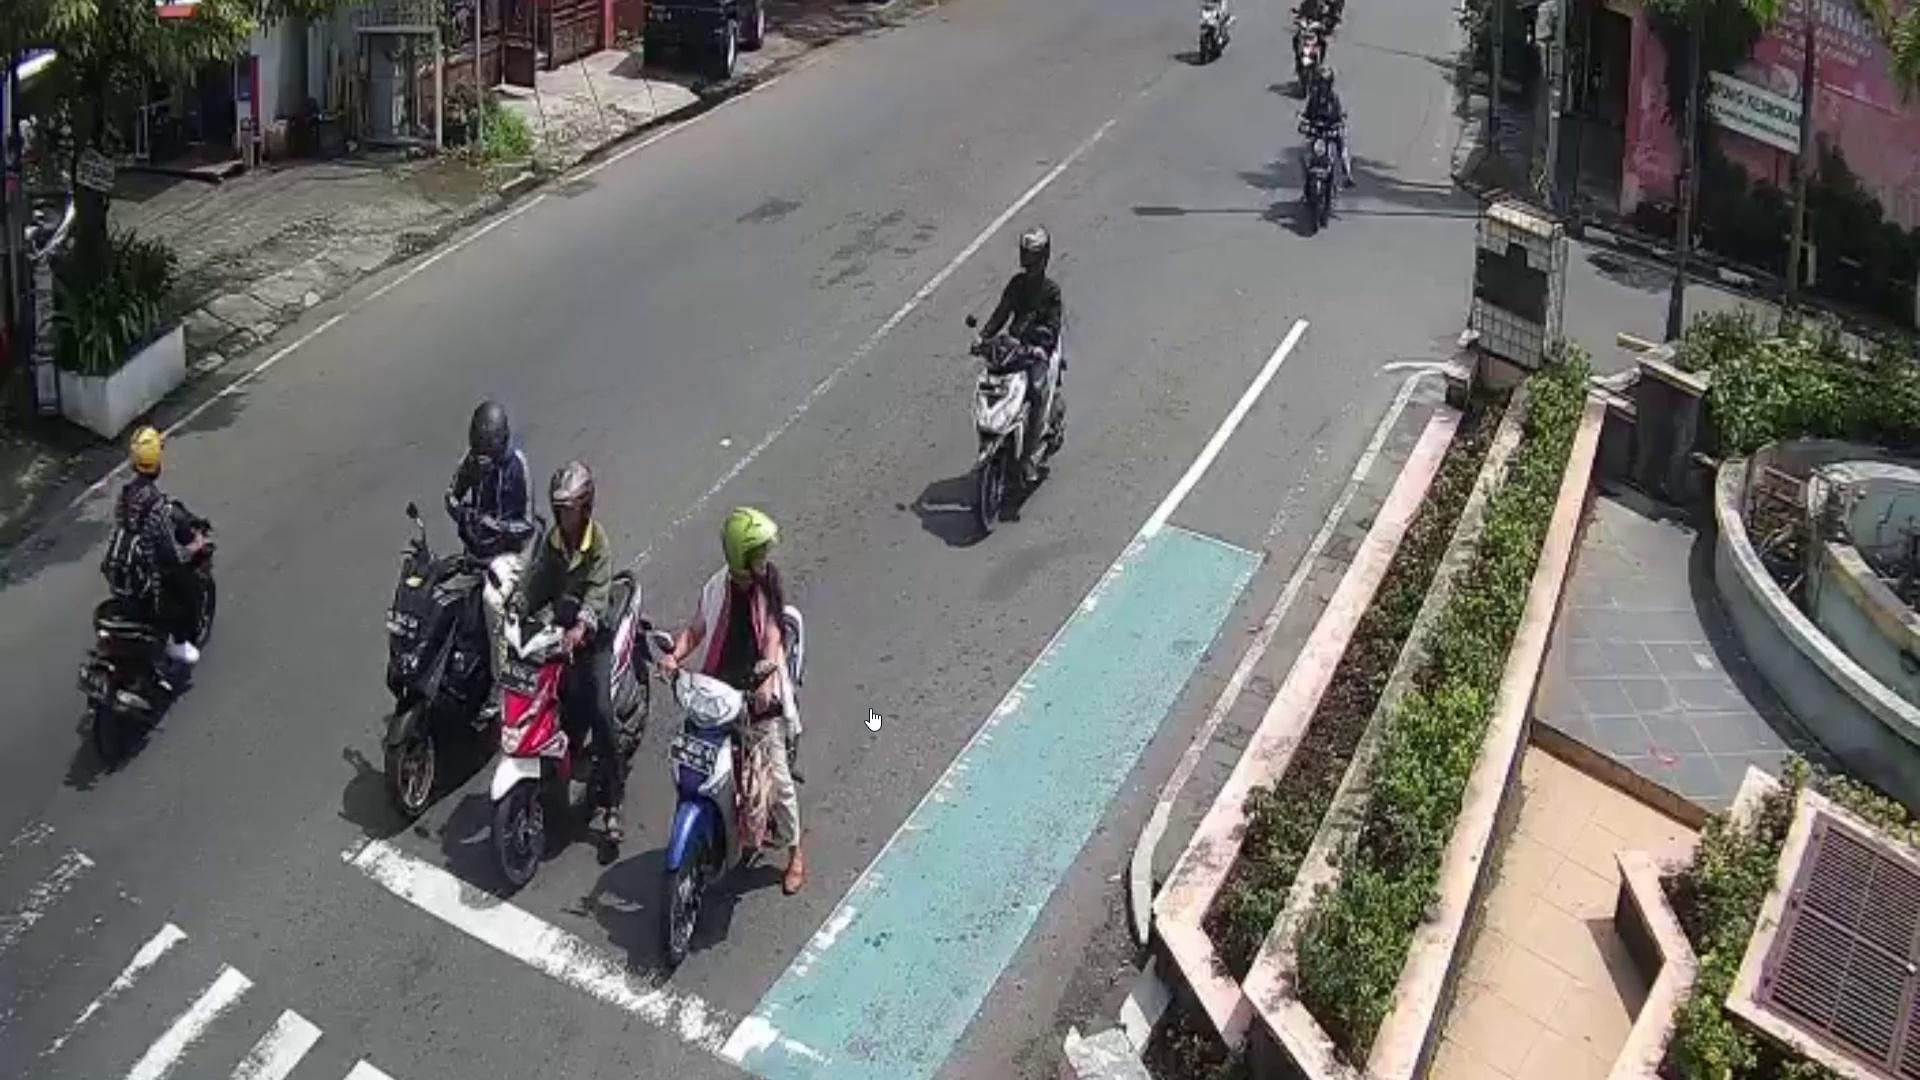motorbike: (659, 600, 806, 948), (492, 564, 647, 891), (84, 493, 218, 769), (384, 542, 485, 822), (975, 323, 1065, 526), (1299, 121, 1342, 232)
